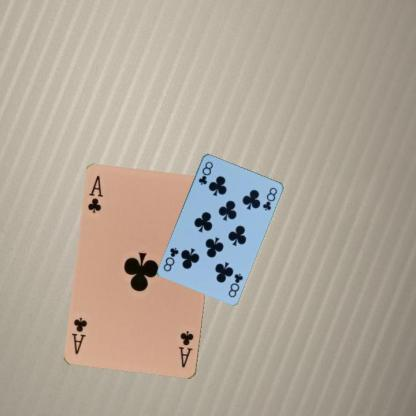8c: (225, 271, 244, 298), (196, 158, 214, 186)
Ac: (86, 173, 104, 215), (177, 328, 195, 369)
